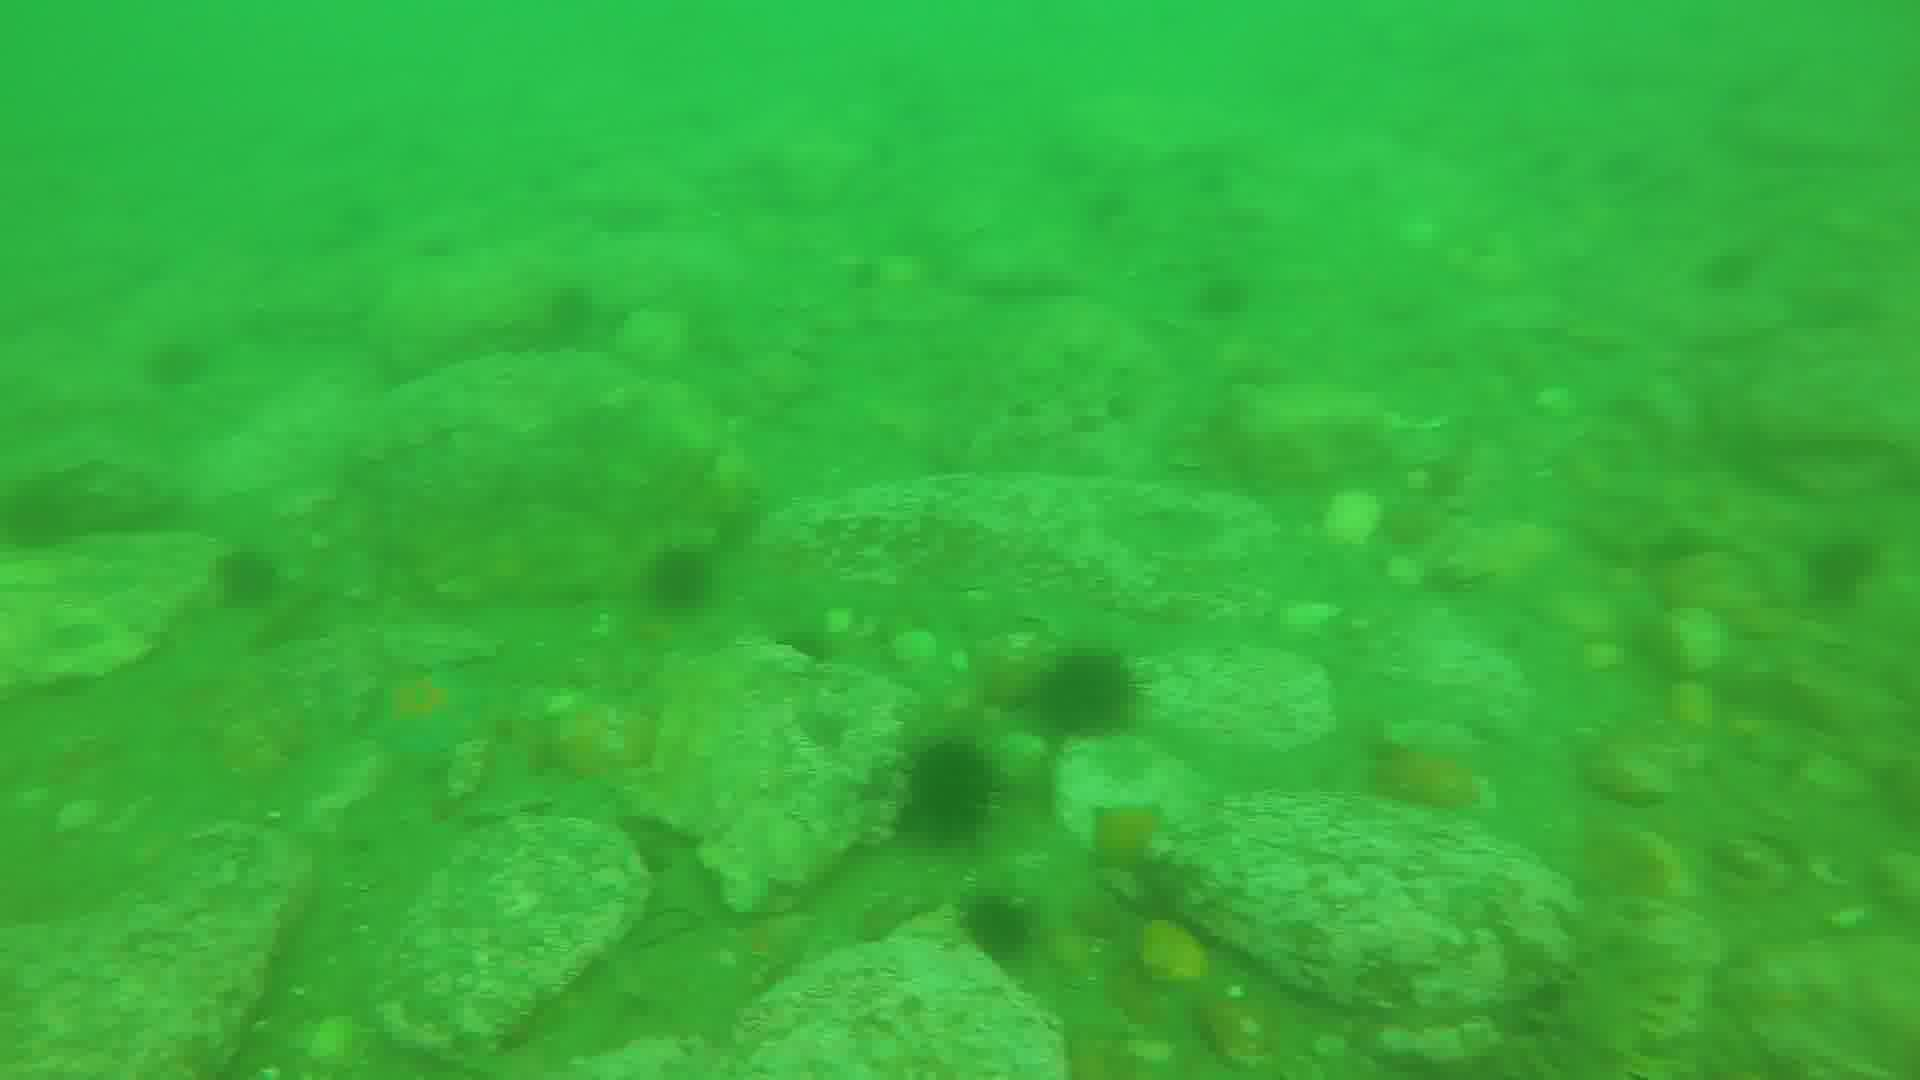echinus: (895, 738, 1002, 837), (1042, 647, 1137, 746), (953, 889, 1047, 975), (641, 535, 704, 628), (214, 547, 289, 615)
starfish: (367, 673, 481, 744), (1089, 798, 1184, 873)
